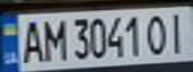0: (87, 15, 106, 60)
1: (121, 12, 145, 57)
3: (69, 14, 90, 61)
4: (106, 12, 127, 59)
A: (18, 17, 45, 64)
I: (163, 9, 193, 55)
M: (39, 16, 66, 63)
O: (145, 11, 172, 56)
